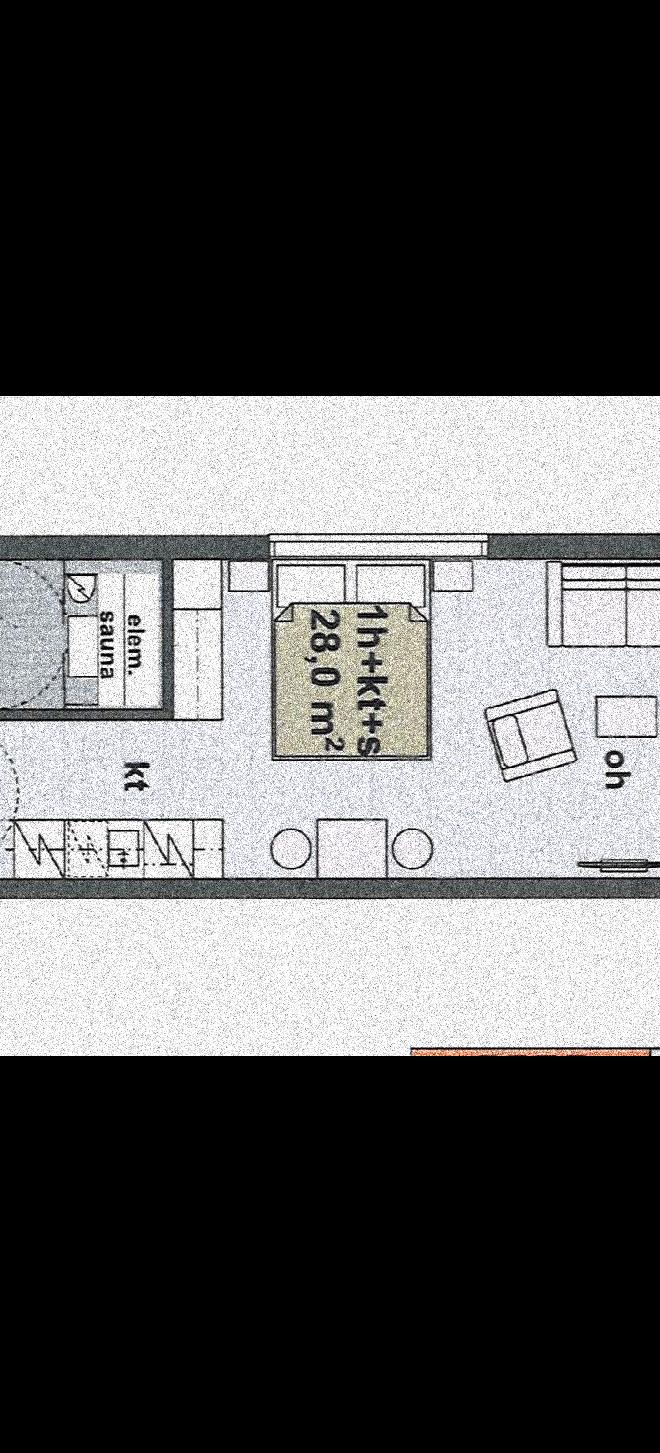window: (258, 531, 484, 570)
zone: (0, 566, 660, 878), (0, 552, 167, 710)
